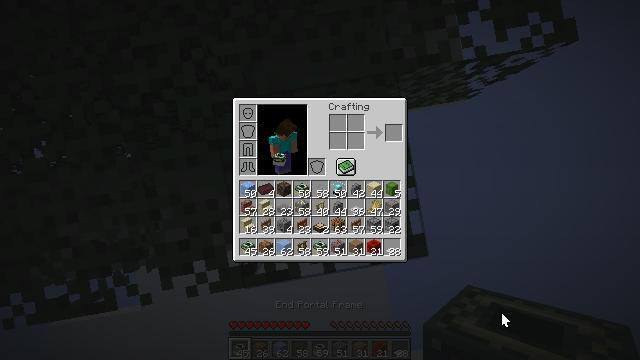cursor: (501, 312, 511, 328)
